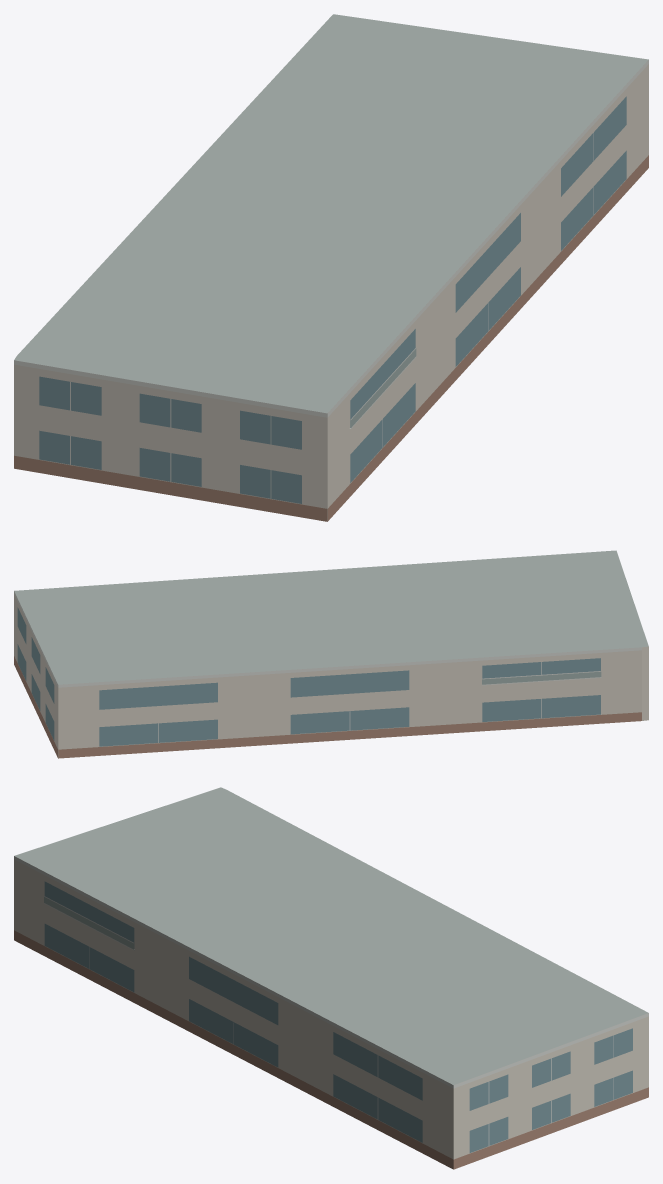
Rendered from survey-upis-33011844.glb.
3 renders of one model, top to bottom at view 1: azimuth 30°, elevation 25°; view 2: azimuth 150°, elevation 25°; view 3: azimuth 270°, elevation 25°, orthographic. The views are drawn at different scales.
Parts seen in each view (by area): view 1: survey-upis-33011844.tmp; view 2: survey-upis-33011844.tmp; view 3: survey-upis-33011844.tmp.
Boxes of the visible parts, x1,y1,x2,y2 form: survey-upis-33011844.tmp: (14,14,648,521); survey-upis-33011844.tmp: (14,550,648,758); survey-upis-33011844.tmp: (14,787,648,1169).
Bounding box in the file's own units: 46.19 × 6.1 × 41.6.
